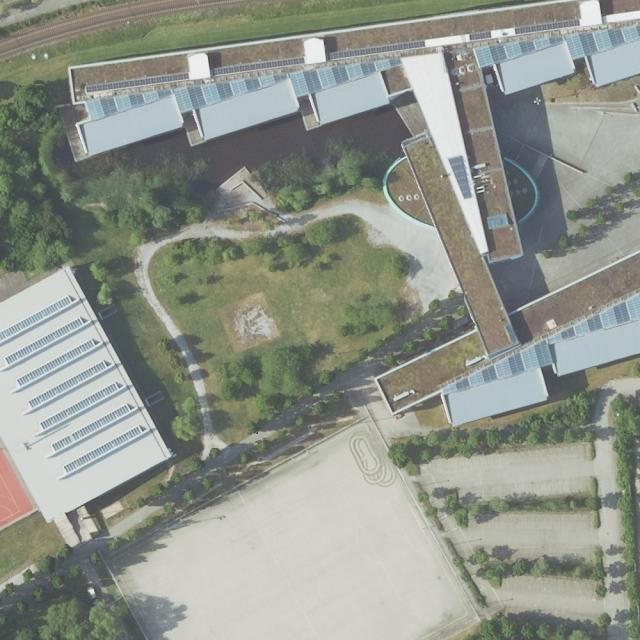PV: (4, 317, 84, 366), (63, 425, 142, 474), (52, 404, 130, 452), (28, 361, 107, 408), (16, 339, 94, 386), (40, 383, 118, 430), (0, 296, 71, 342), (327, 39, 425, 60), (86, 72, 190, 91), (212, 56, 305, 76), (516, 18, 581, 34), (448, 156, 471, 199), (470, 30, 493, 41)
